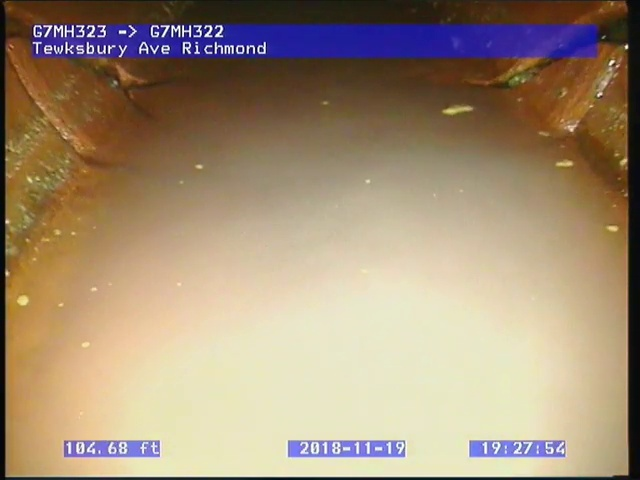crack: (5, 12, 185, 123), (469, 16, 629, 93)
